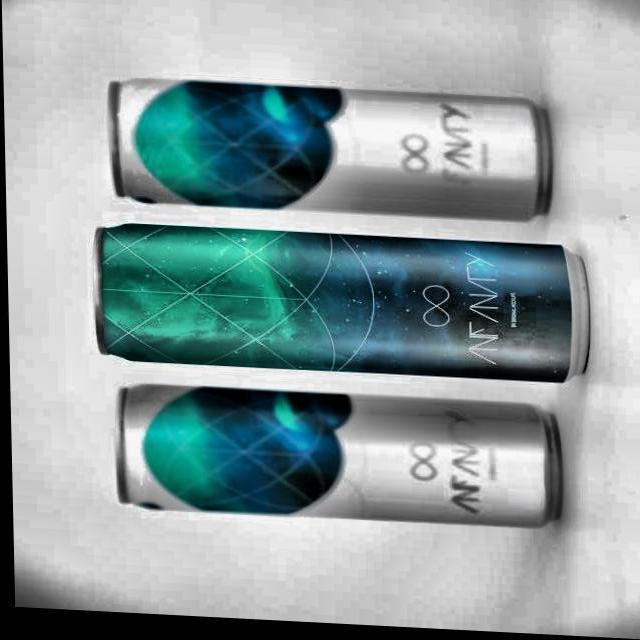litter: (78, 219, 599, 392), (99, 72, 560, 234), (103, 381, 563, 536)
